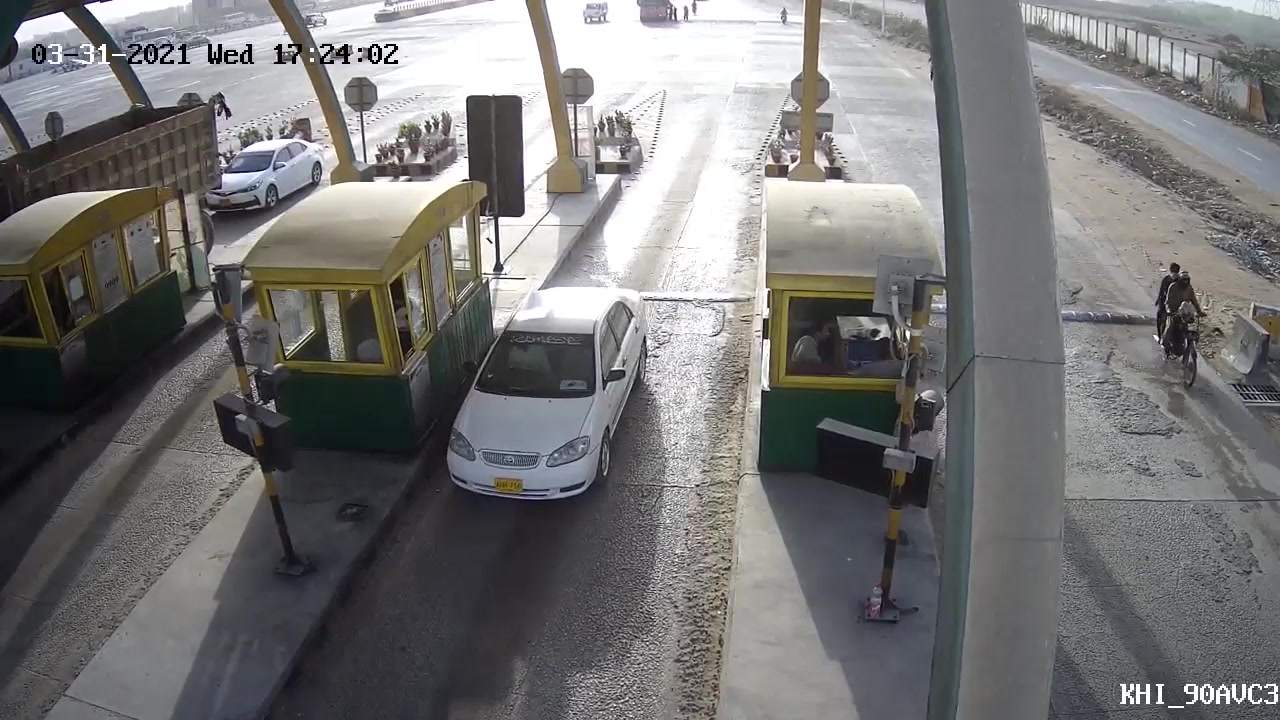F1: (439, 277, 657, 524)
